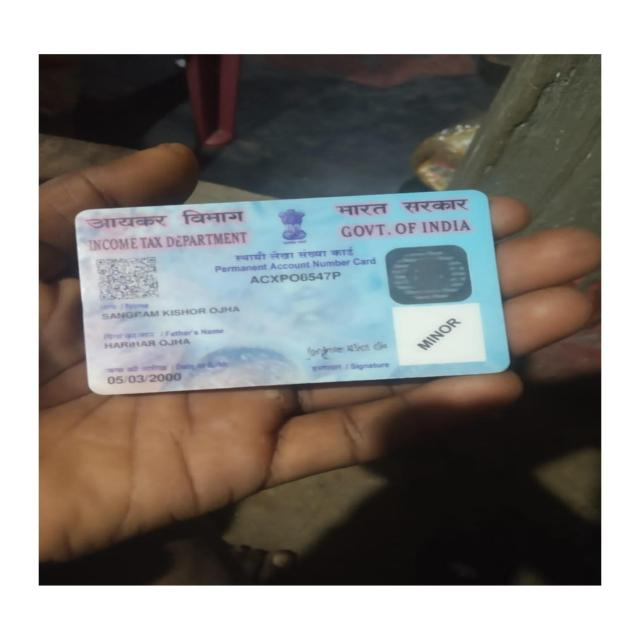pan_card: (70, 192, 507, 395)
